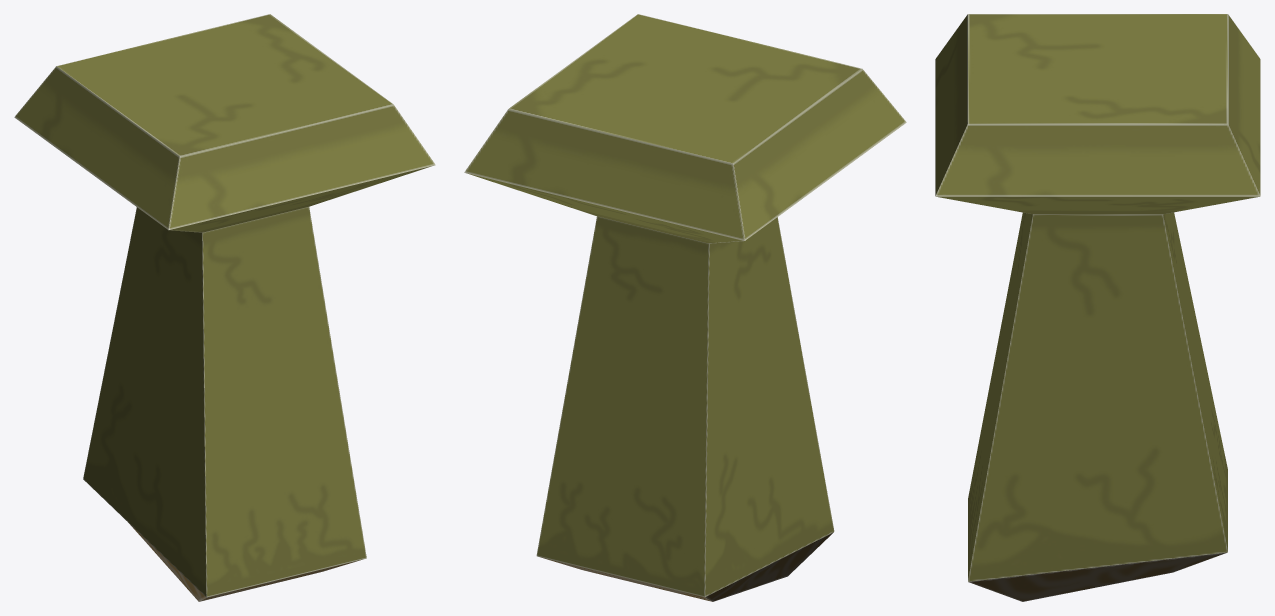
File: Breakable_Column_Top.fbx
3 renders of one model, left to right at view 1: azimuth 30°, elevation 25°; view 2: azimuth 150°, elevation 25°; view 3: azimuth 270°, elevation 25°, orthographic. The views are drawn at different scales.
Visible parts, largest first — view 1: pCube2; view 2: pCube2; view 3: pCube2.
Boxes of the visible parts, x1,y1,x2,y2 form: pCube2: (14, 14, 435, 601); pCube2: (464, 14, 906, 601); pCube2: (935, 14, 1260, 601).
Bounding box in the file's own units: 10 × 17 × 10.
Materials: 1 (1 with a texture image).
